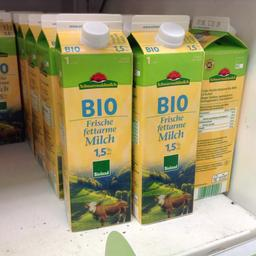milk: (56, 14, 133, 233), (128, 14, 198, 228)
